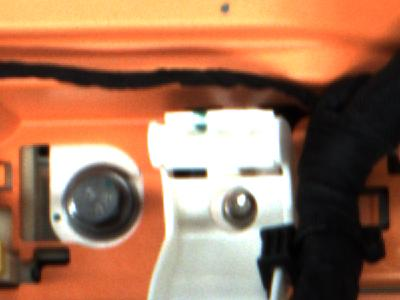nut_b: (64, 159, 138, 239)
